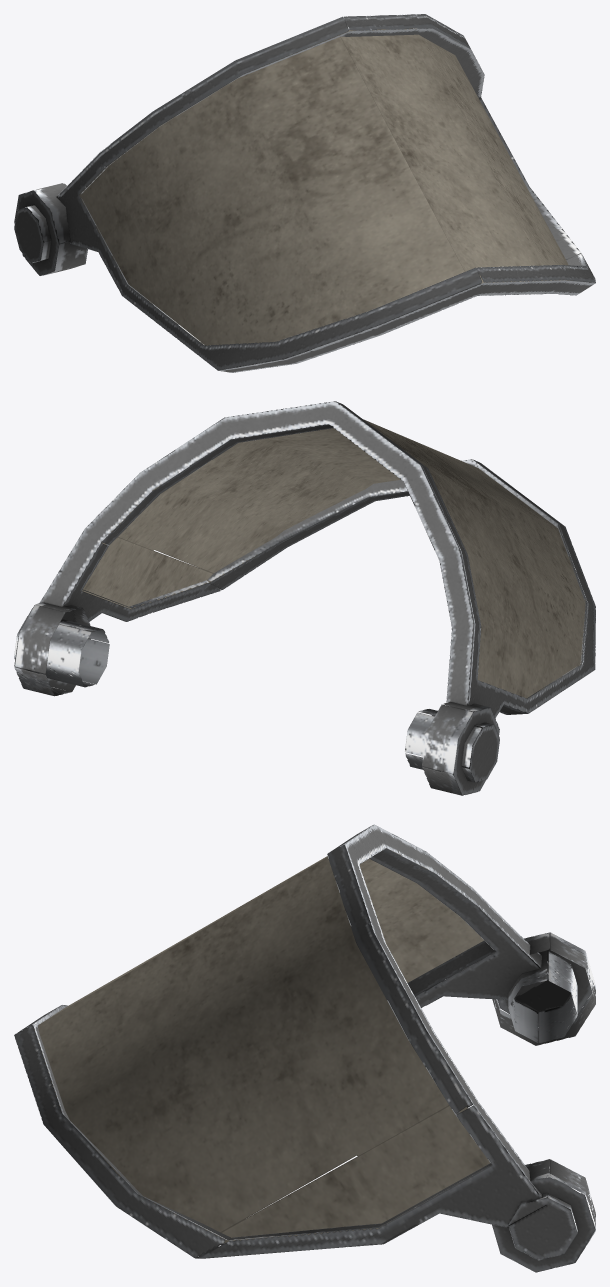
File: W_Hat_PSGT_Visor.FBX
3 views of the same model, one above another, from view 1: azimuth 30°, elevation 25°; view 2: azimuth 150°, elevation 25°; view 3: azimuth 270°, elevation 25° (orthographic). The views are drawn at different scales.
Parts seen in each view (by area): view 1: Sphere003; view 2: Sphere003; view 3: Sphere003.
Part boxes in pixels (x1,y1,x2,y2): Sphere003: [14, 14, 595, 372]; Sphere003: [14, 401, 595, 795]; Sphere003: [14, 824, 595, 1272].
Size of the model in its own units: 16.81 by 9.8 by 16.31.
